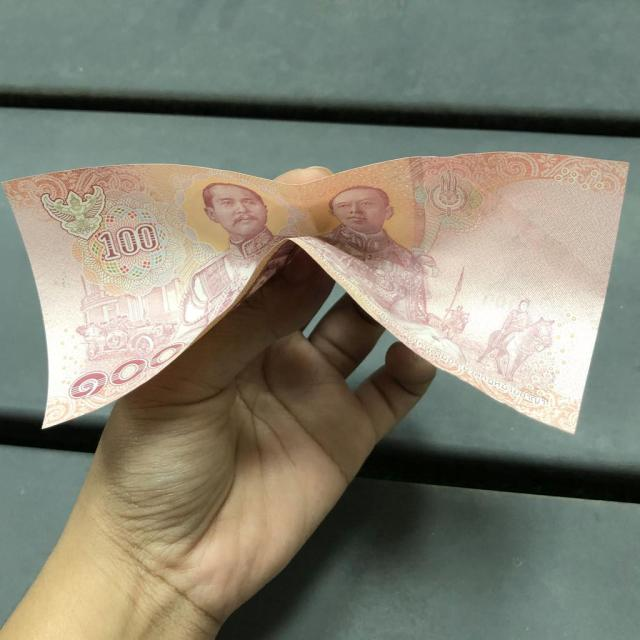THAI100: (5, 150, 639, 438)
